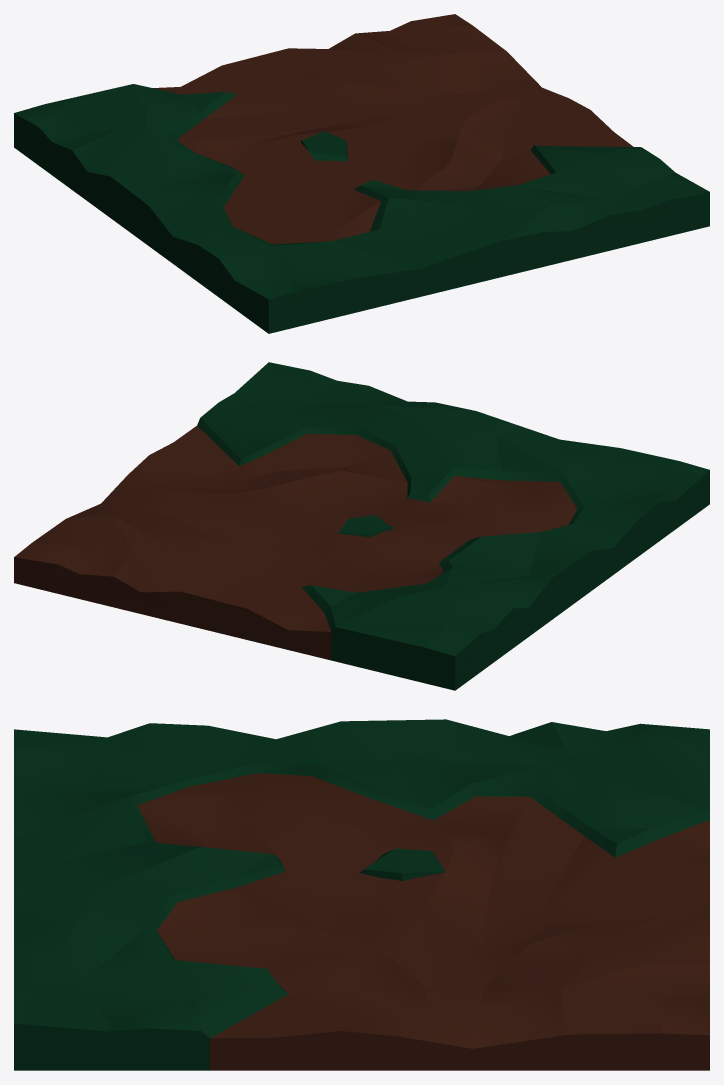
File: Ground_Corner_Internal_LB.fbx
The picture shows the model from 3 angles, top to bottom: view 1: azimuth 30°, elevation 25°; view 2: azimuth 150°, elevation 25°; view 3: azimuth 270°, elevation 25°; orthographic projection. The views are drawn at different scales.
Visible parts, largest first — view 1: Ground_Corner_Internal_LB; view 2: Ground_Corner_Internal_LB; view 3: Ground_Corner_Internal_LB.
Boxes of the visible parts, <box> form: Ground_Corner_Internal_LB: <box>14,14,709,333</box>; Ground_Corner_Internal_LB: <box>14,362,709,690</box>; Ground_Corner_Internal_LB: <box>14,719,709,1070</box>.
Size of the model in its own units: 147 by 14.26 by 147.
